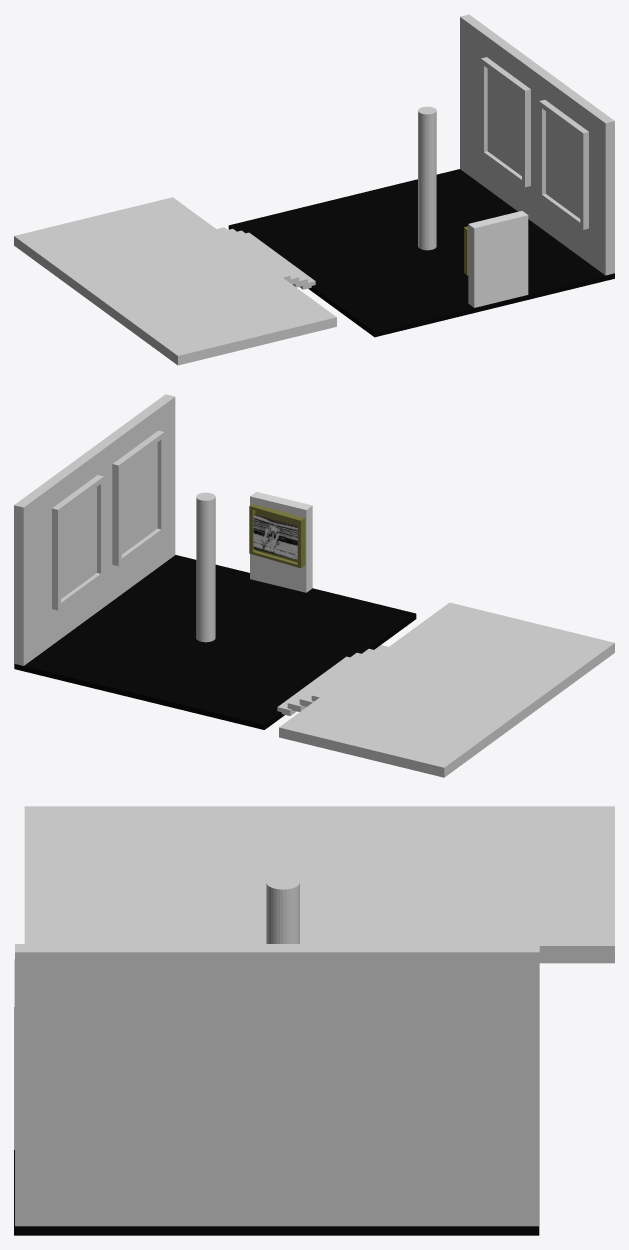
The picture shows the model from 3 angles, top to bottom: view 1: azimuth 30°, elevation 25°; view 2: azimuth 150°, elevation 25°; view 3: azimuth 270°, elevation 25°; orthographic projection. The views are drawn at different scales.
Parts seen in each view (by area): view 1: Cube.003, Cube, Cube.002, Cube.001, Cube.008, Cube.009, Cylinder, Cube.007; view 2: Cube, Cube.003, Cube.002, Cube.009, Cube.008, Cylinder, Cube.001, Bob, Cube.010, Cube.007; view 3: Cube.002, Cube.003, Cube, Cylinder.
Boxes of the visible parts, left/top/right/bottom form: Cube.003: left=14, top=197, right=336, bottom=365; Cube: left=228, top=169, right=614, bottom=337; Cube.002: left=460, top=14, right=614, bottom=275; Cube.001: left=468, top=211, right=528, bottom=307; Cube.008: left=481, top=57, right=530, bottom=187; Cube.009: left=539, top=100, right=588, bottom=229; Cylinder: left=418, top=106, right=436, bottom=250; Cube.007: left=217, top=227, right=290, bottom=281; Cube: left=14, top=555, right=416, bottom=729; Cube.003: left=279, top=602, right=614, bottom=777; Cube.002: left=14, top=394, right=175, bottom=665; Cube.009: left=112, top=430, right=164, bottom=565; Cube.008: left=52, top=475, right=103, bottom=610; Cylinder: left=196, top=492, right=215, bottom=642; Cube.001: left=250, top=492, right=312, bottom=592; Bob: left=253, top=514, right=297, bottom=559; Cube.010: left=249, top=504, right=305, bottom=568; Cube.007: left=311, top=645, right=388, bottom=701; Cube.002: left=15, top=944, right=539, bottom=1226; Cube.003: left=24, top=806, right=614, bottom=963; Cube: left=14, top=1150, right=539, bottom=1235; Cylinder: left=266, top=875, right=299, bottom=943.
Size of the model in its own units: 13.81 by 4.78 by 9.19.
4 materials, 1 textured.
